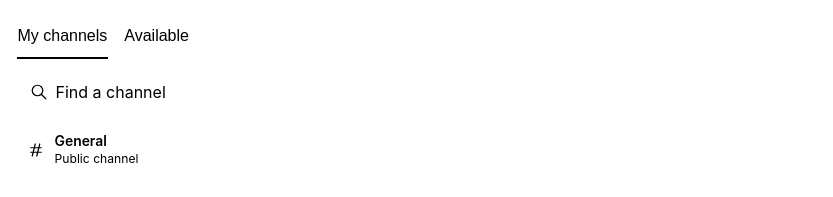
Test: empty available results distinguish a search miss from an empty catalog
Step 1. Click the tab "Available" → (157, 37), box [123, 15, 190, 59]
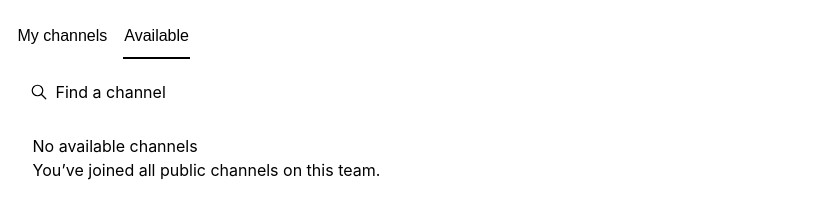
expect the message "No available channels" shows "You’ve joined all public channels on this team.": met, box [32, 160, 380, 180]
Step 2. Type "release" into the search field → (416, 92), box [16, 72, 816, 112]
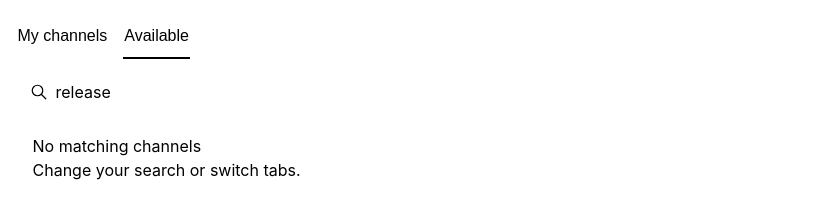
expect the message "No matching channels" shows "Change your search or switch tabs.": met, box [32, 160, 301, 180]
Step 3. Clear the search field → (416, 92), box [16, 72, 816, 112]
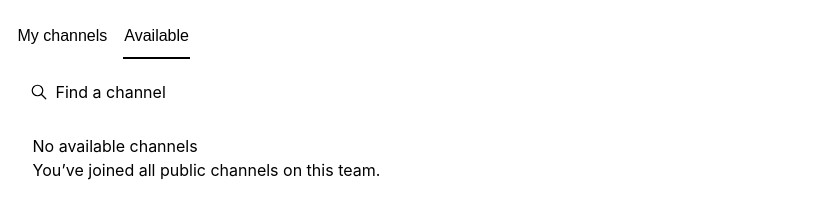
expect the heading "No available channels" is shown: met, box [32, 136, 198, 156]
